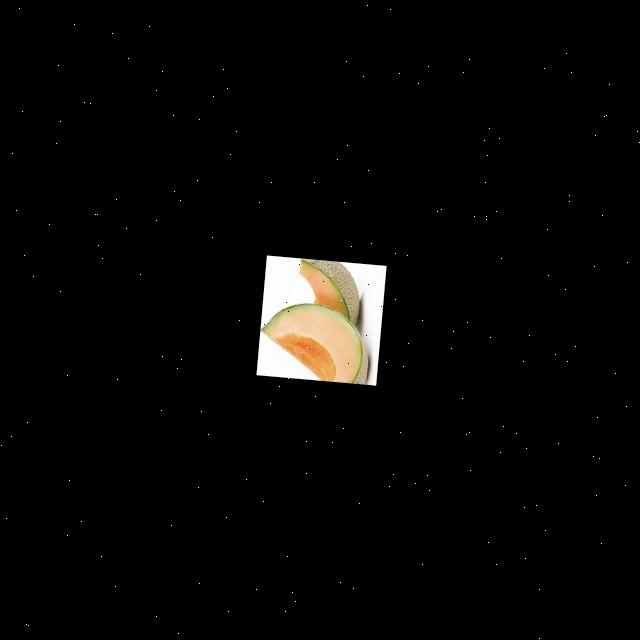Hami Melon: (255, 300, 372, 383)
